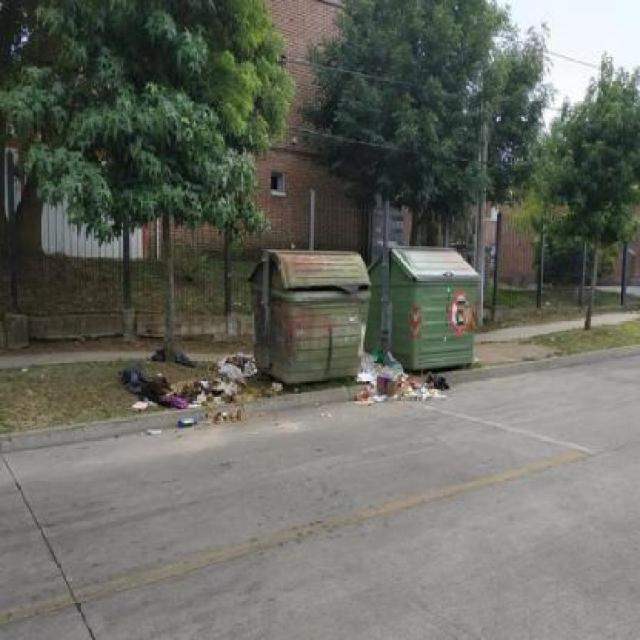garbage: (107, 352, 256, 446), (362, 340, 451, 411), (143, 338, 212, 370)
